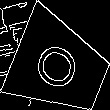O_SE: (31, 36, 89, 97)
